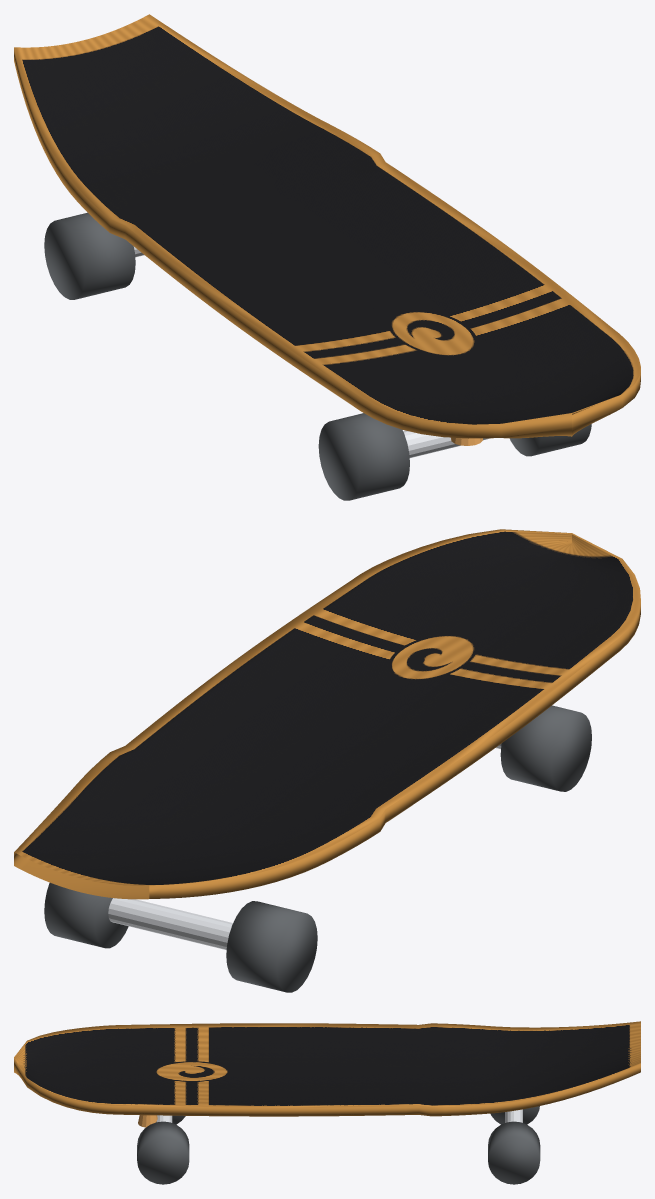
Rendered from surfskate_board_source.glb.
3 views of the same model, one above another, from view 1: azimuth 30°, elevation 25°; view 2: azimuth 150°, elevation 25°; view 3: azimuth 270°, elevation 25° (orthographic). The views are drawn at different scales.
Parts seen in each view (by area): view 1: DeckMesh, FrontWheel_L, RearWheel_L, FrontWheel_R, FrontAxle; view 2: DeckMesh, RearWheel_L, FrontWheel_L, RearWheel_R, RearAxle; view 3: DeckMesh, FrontWheel_R, RearWheel_R, RearWheel_L.
Boxes of the visible parts, bbox=[...] form: DeckMesh: bbox=[14, 14, 640, 438]; FrontWheel_L: bbox=[318, 413, 409, 500]; RearWheel_L: bbox=[44, 212, 135, 299]; FrontWheel_R: bbox=[509, 424, 591, 456]; FrontAxle: bbox=[403, 430, 490, 457]; DeckMesh: bbox=[14, 529, 640, 899]; RearWheel_L: bbox=[226, 901, 317, 992]; FrontWheel_L: bbox=[500, 705, 591, 791]; RearWheel_R: bbox=[44, 882, 128, 948]; RearAxle: bbox=[108, 898, 232, 949]; DeckMesh: bbox=[14, 1021, 640, 1116]; FrontWheel_R: bbox=[137, 1121, 189, 1184]; RearWheel_R: bbox=[488, 1121, 540, 1184]; RearWheel_L: bbox=[490, 1106, 539, 1124].
Size of the model in its own units: 0.268 by 0.1565 by 0.84.
Materials: 4 (1 with a texture image).
